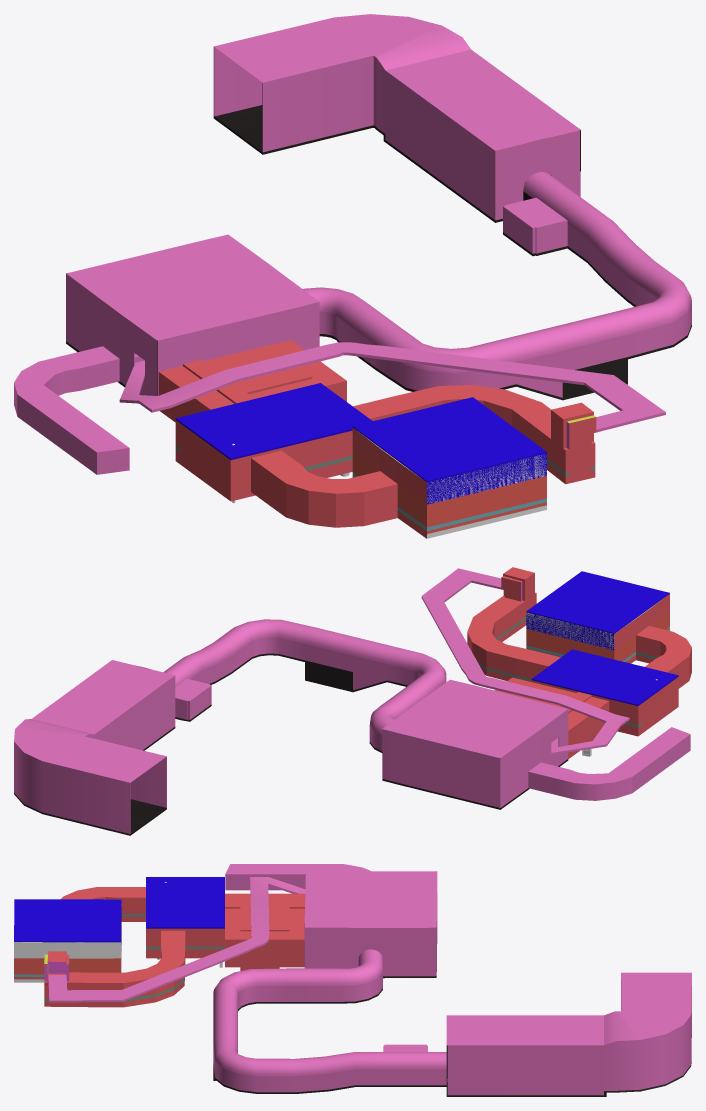
The model's file is Level2.fbx.
The picture shows the model from 3 angles, top to bottom: view 1: azimuth 30°, elevation 25°; view 2: azimuth 150°, elevation 25°; view 3: azimuth 270°, elevation 25°; orthographic projection. The views are drawn at different scales.
Parts seen in each view (by area): view 1: Cube.001, Cube; view 2: Cube.001, Cube; view 3: Cube.001, Cube.
Part boxes in pixels (x1,y1,x2,y2): Cube.001: [14, 14, 691, 474]; Cube: [158, 340, 596, 538]; Cube.001: [14, 568, 690, 835]; Cube: [467, 567, 691, 758]; Cube.001: [48, 864, 691, 1096]; Cube: [14, 877, 305, 1007].
Size of the model in its own units: 5321 by 1062 by 6871.
